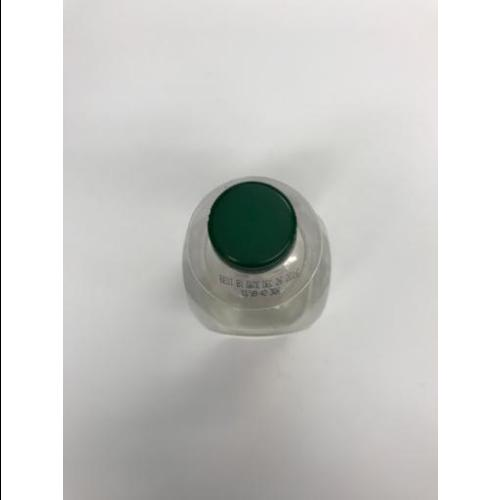plastic: (184, 178, 330, 335)
